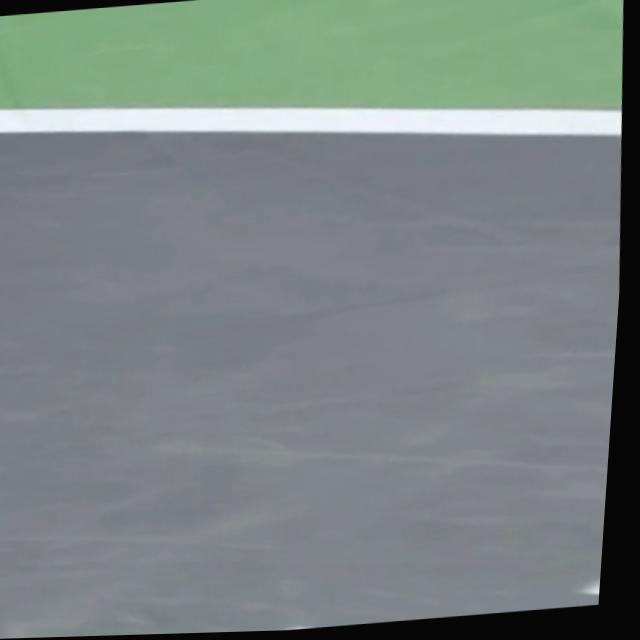right: (0, 108, 622, 136)
